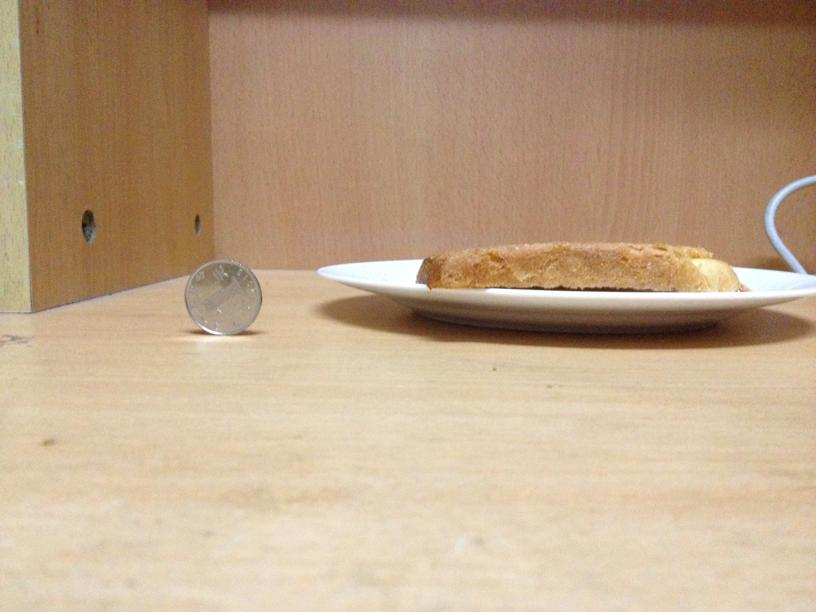bread: (412, 242, 736, 294)
coin: (183, 260, 262, 334)
